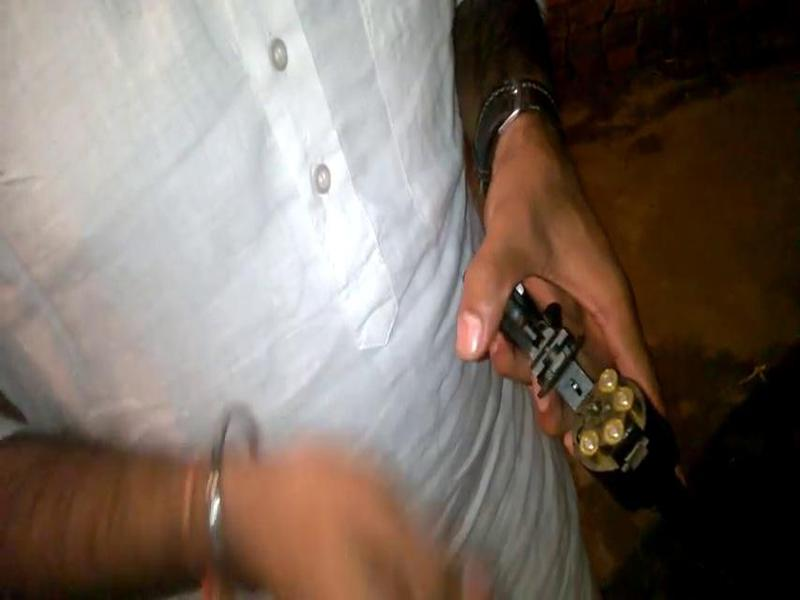Revolver: (485, 255, 750, 584)
